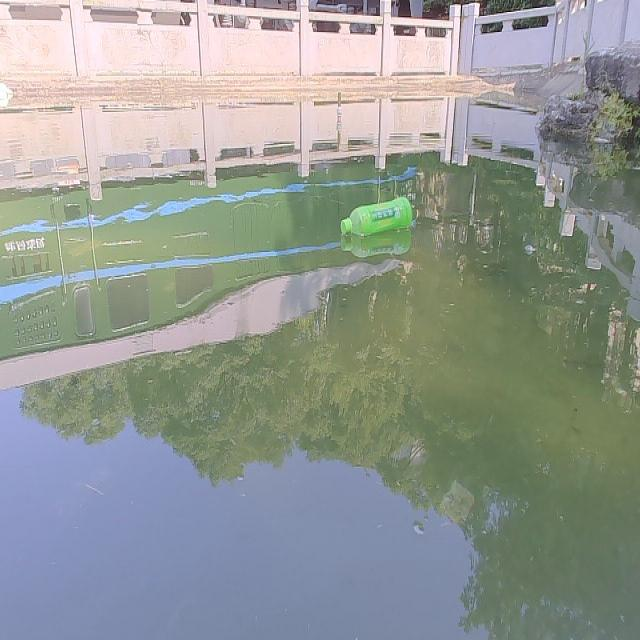Bottle: (334, 198, 415, 242)
